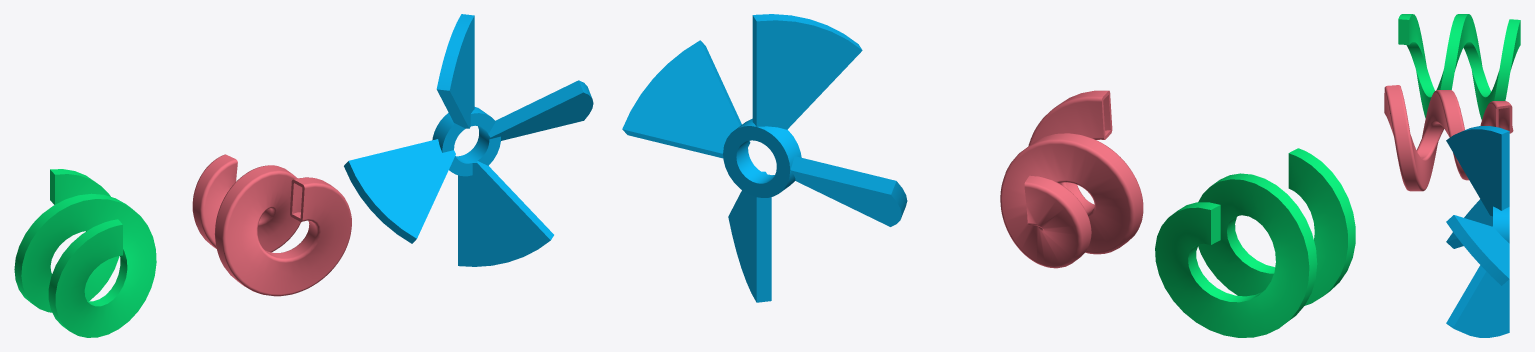
File: unitSpiral.glb
The picture shows the model from 3 angles, left to right: view 1: azimuth 30°, elevation 25°; view 2: azimuth 150°, elevation 25°; view 3: azimuth 270°, elevation 25°; orthographic projection. The views are drawn at different scales.
Parts seen in each view (by area): view 1: COMPOUND; view 2: COMPOUND; view 3: COMPOUND.
Part boxes in pixels (left/top/right/bottom): COMPOUND: left=14, top=14, right=593, bottom=337; COMPOUND: left=622, top=14, right=1355, bottom=337; COMPOUND: left=1384, top=14, right=1520, bottom=337.
Bounding box in the file's own units: 0.0099 × 0.004 × 0.00244.
